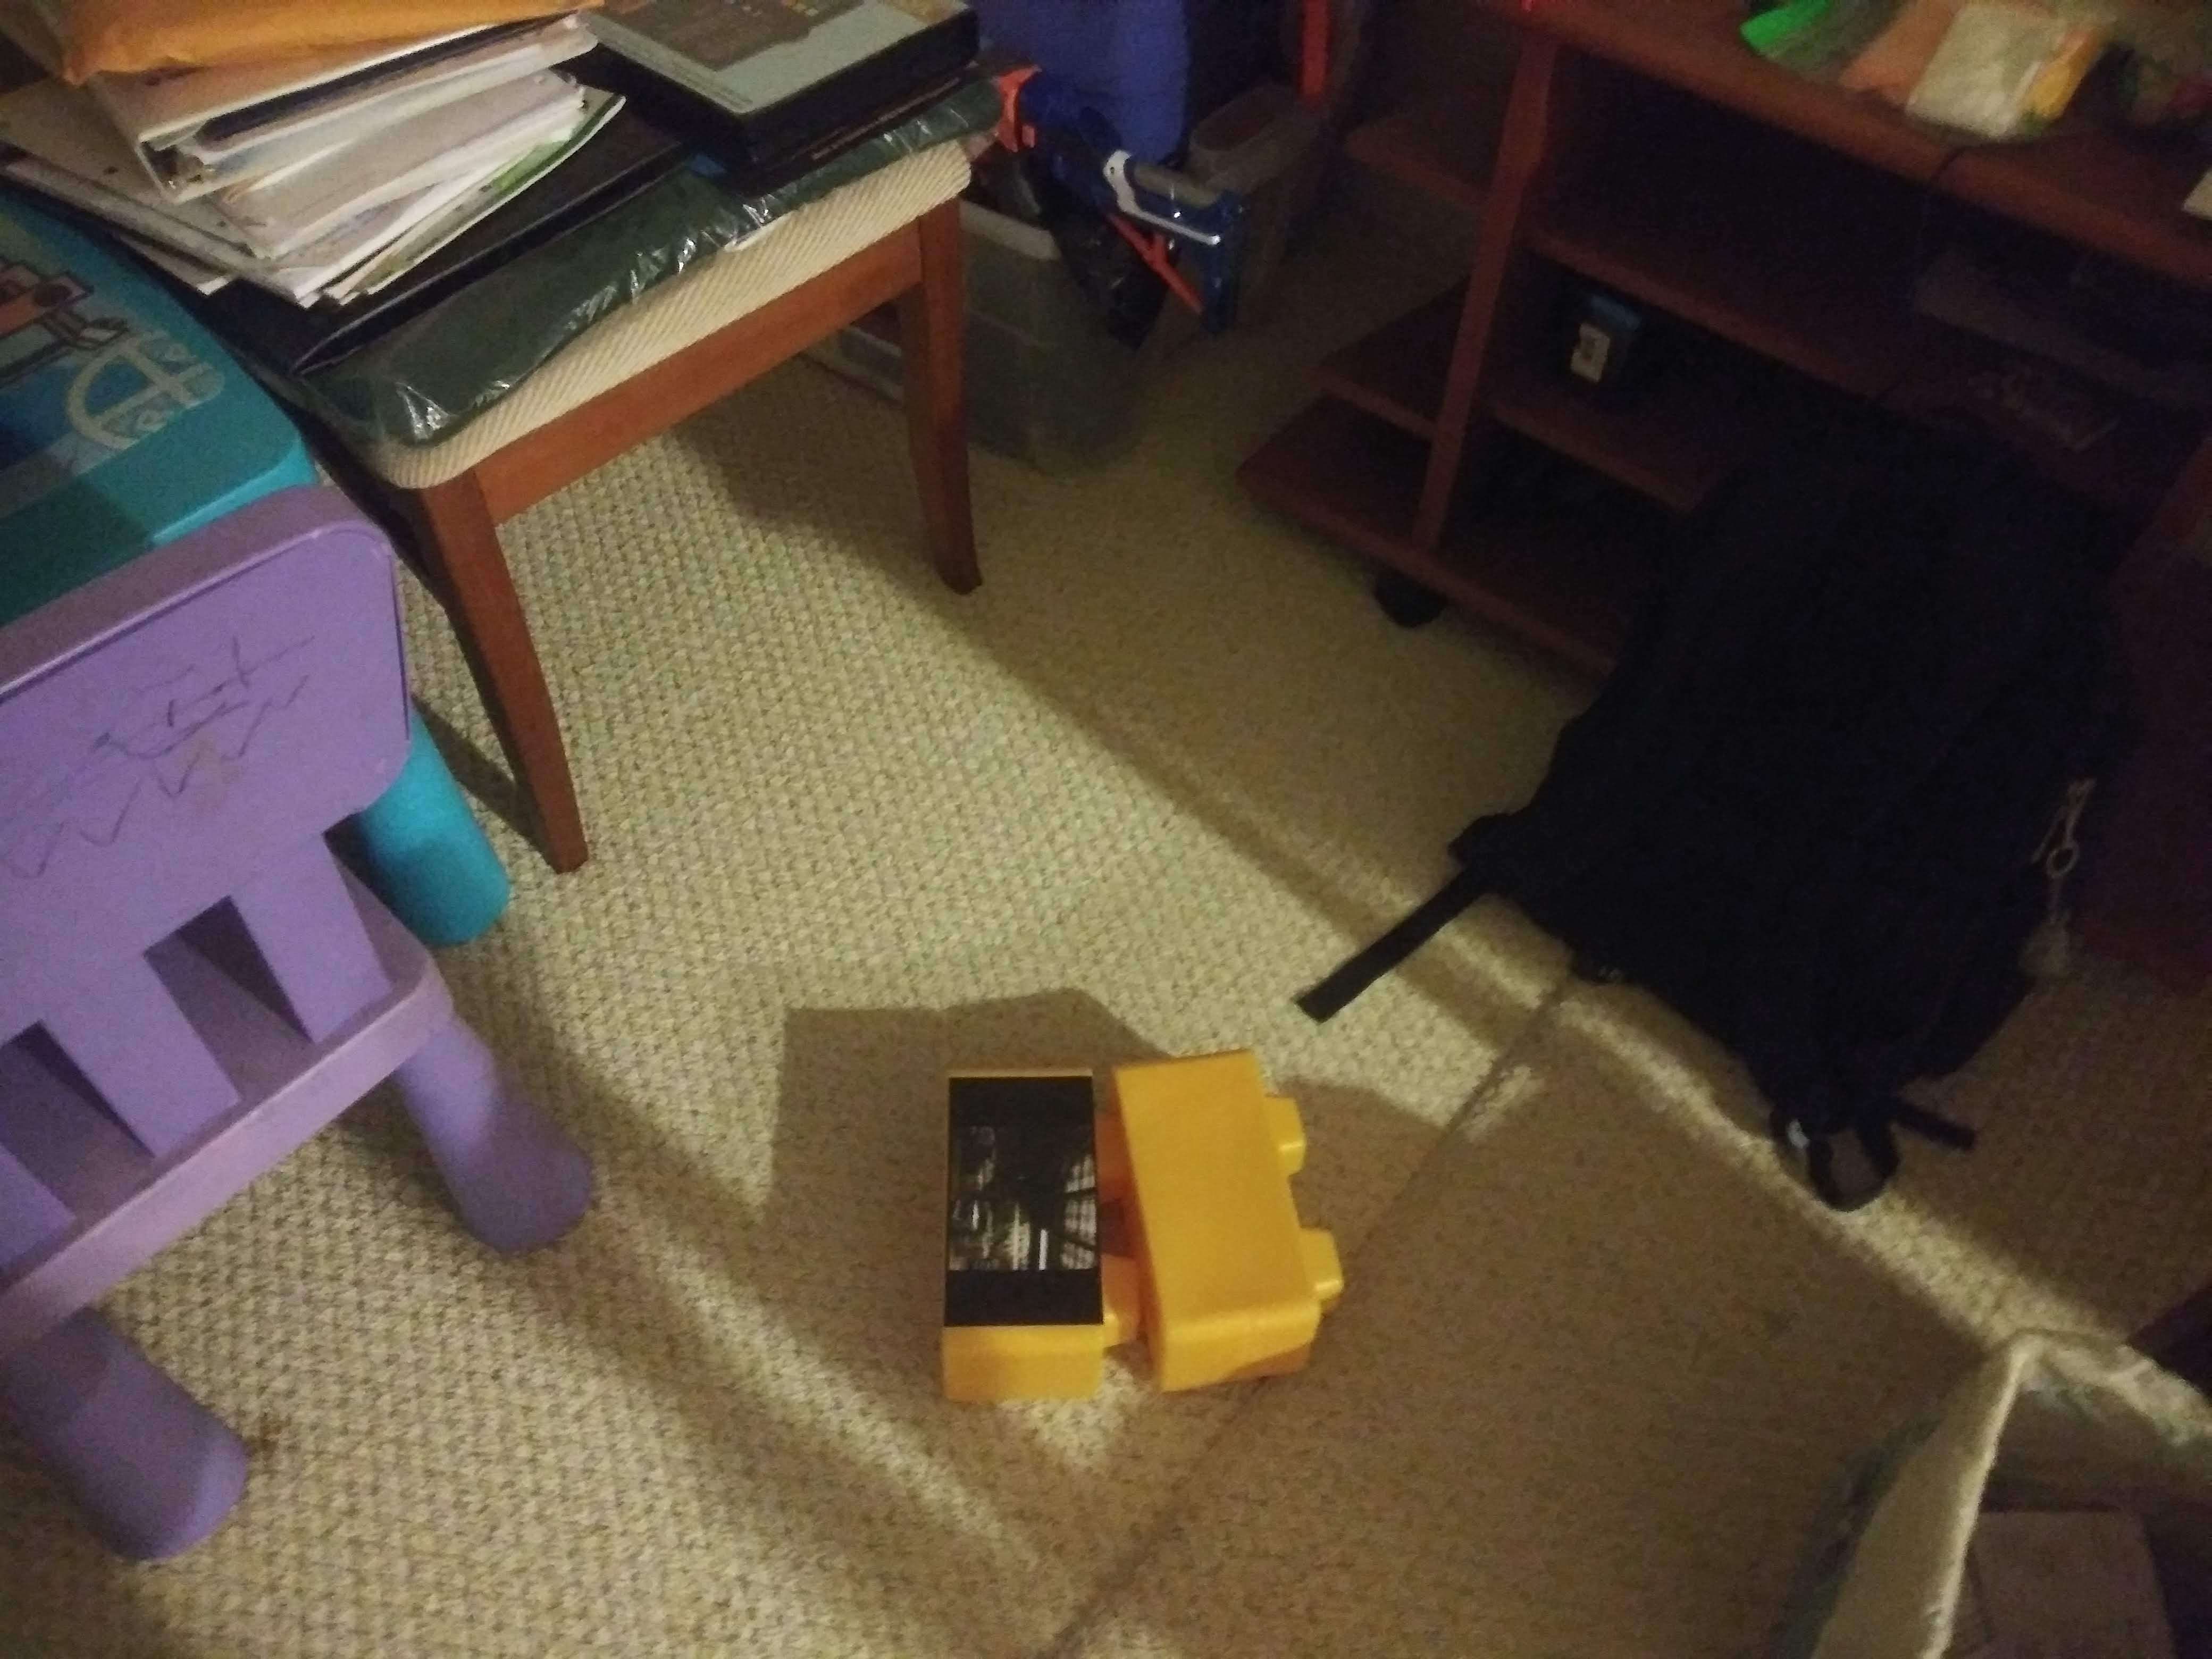skystone: (941, 1061, 1129, 1361)
stone: (1137, 1056, 1343, 1368)
